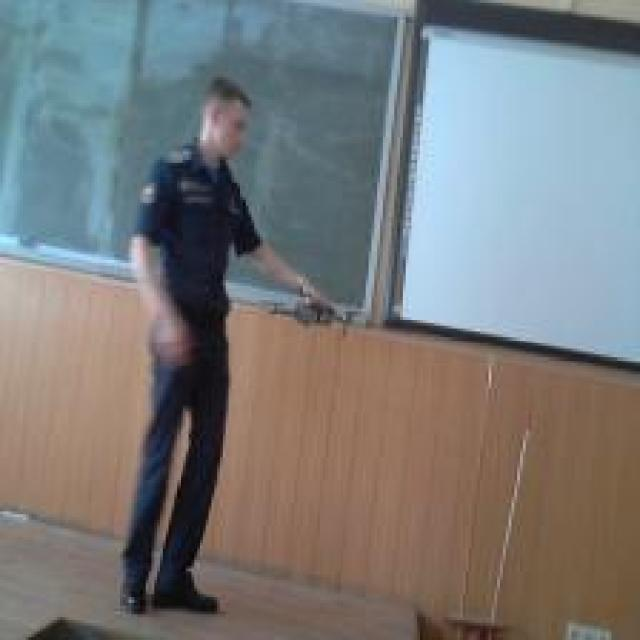drone: (254, 274, 363, 346)
